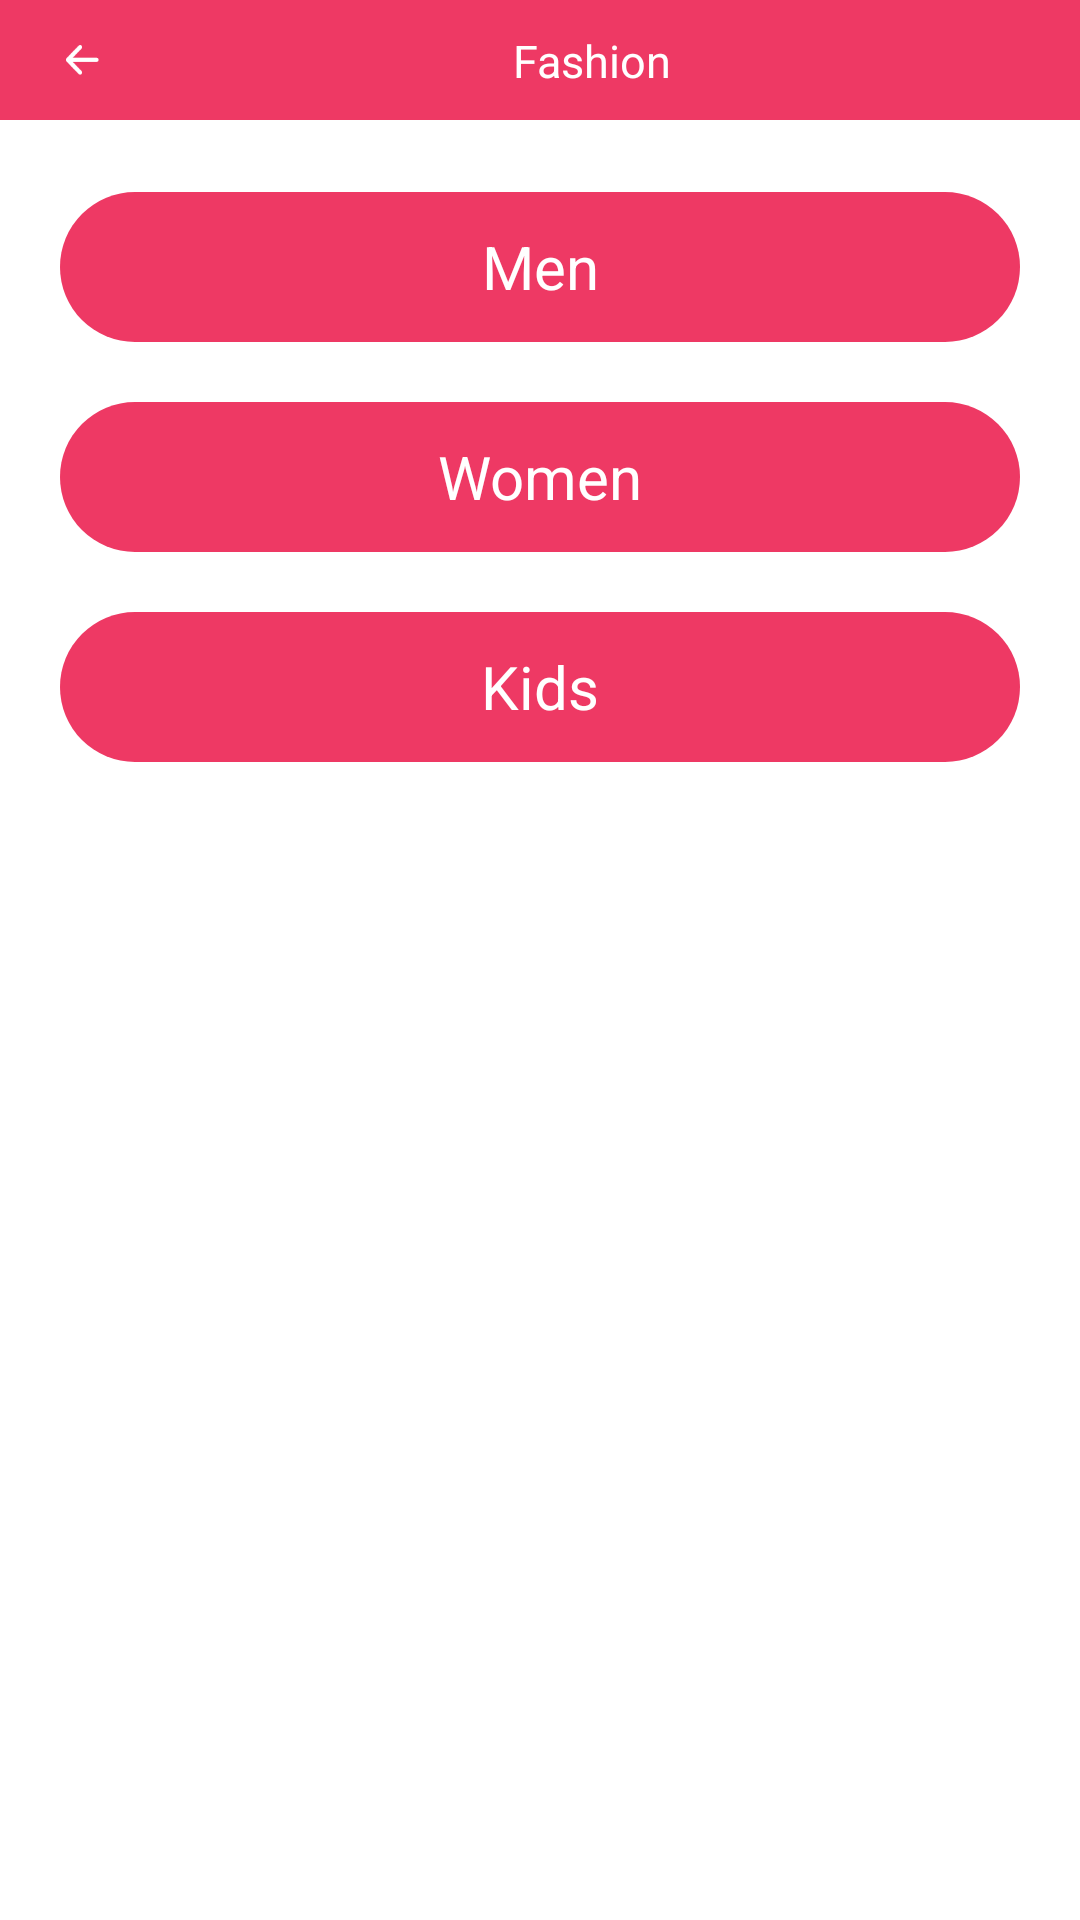

Icons on this 1080px×1920px Android screen, each with the point to tap as point (x, y):
back: point (82, 60)
